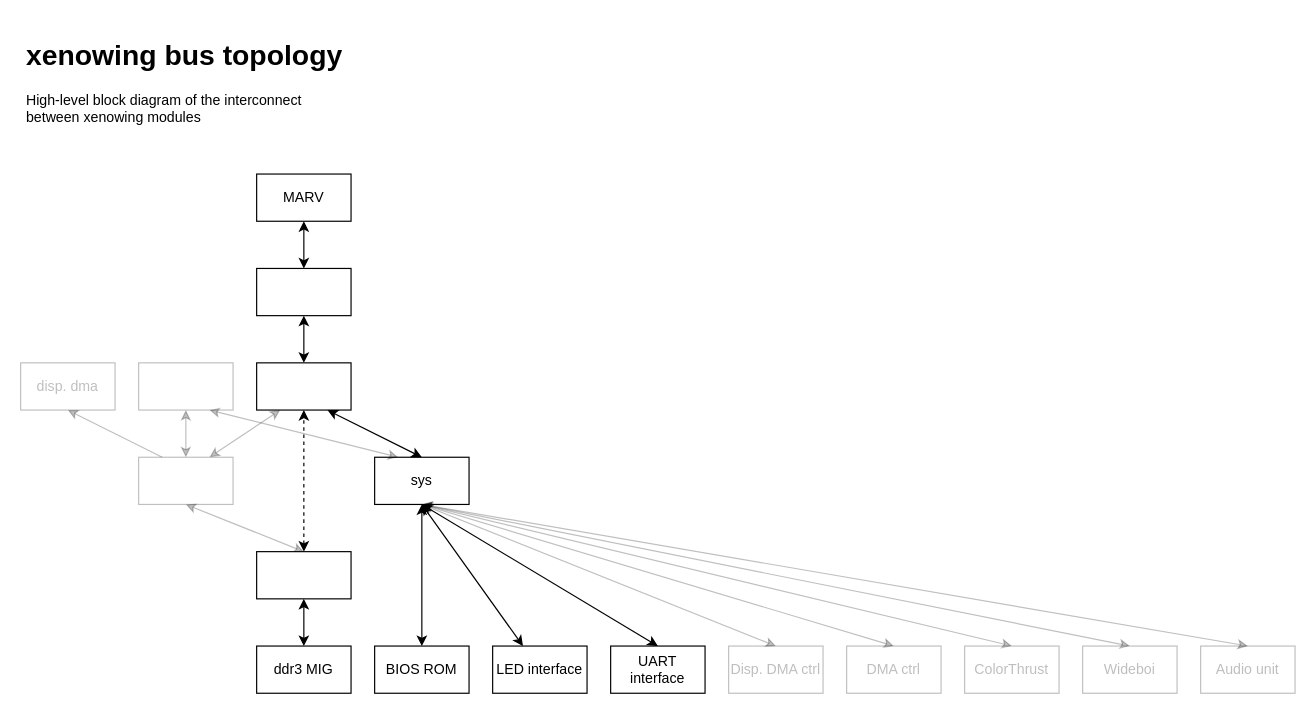
This 1316x714 diagram has some shape labels left out. Here are the shapes that lost their labels. From the top down, the centre of each, then its label:
At (x=303, y=291): "32/128b bridge".
At (x=185, y=386): "dma".
At (x=303, y=386): "cpu".
At (x=185, y=480): "mem".
At (x=303, y=574): "ddr3 interface".
